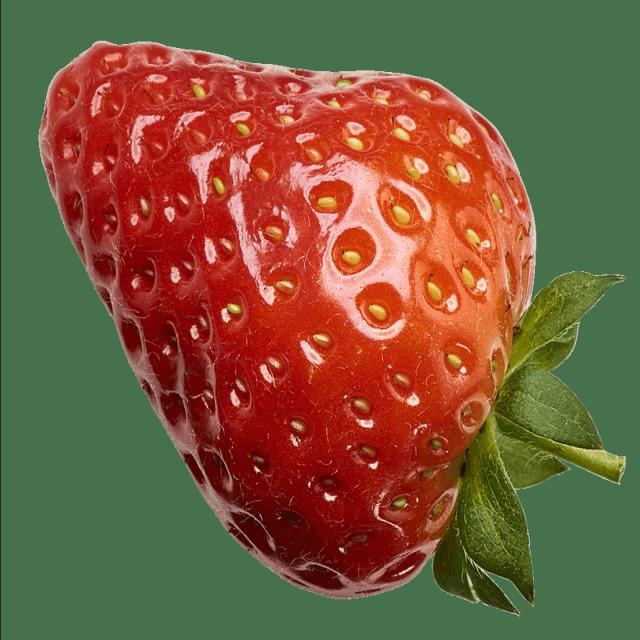strawberry: (45, 0, 637, 627)
